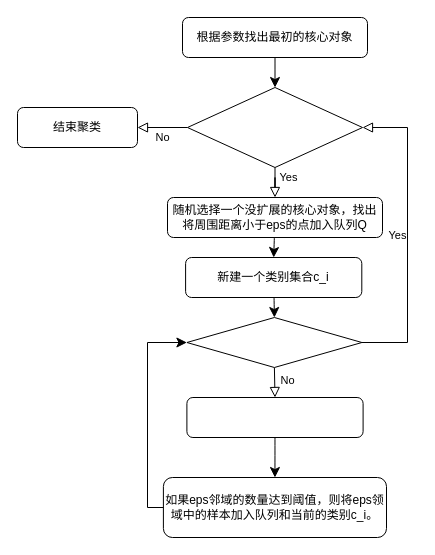
Image size: 435x555. Some labels were removed from this diagram. The centre of each missing label's shape, as x and y in pixels:
"从队列中取出队头元素" belongs at pixel 274 417.
"是否还有没扩展过的核心对象" belongs at pixel 274 127.
"队列Q是否为空" belongs at pixel 274 342.
